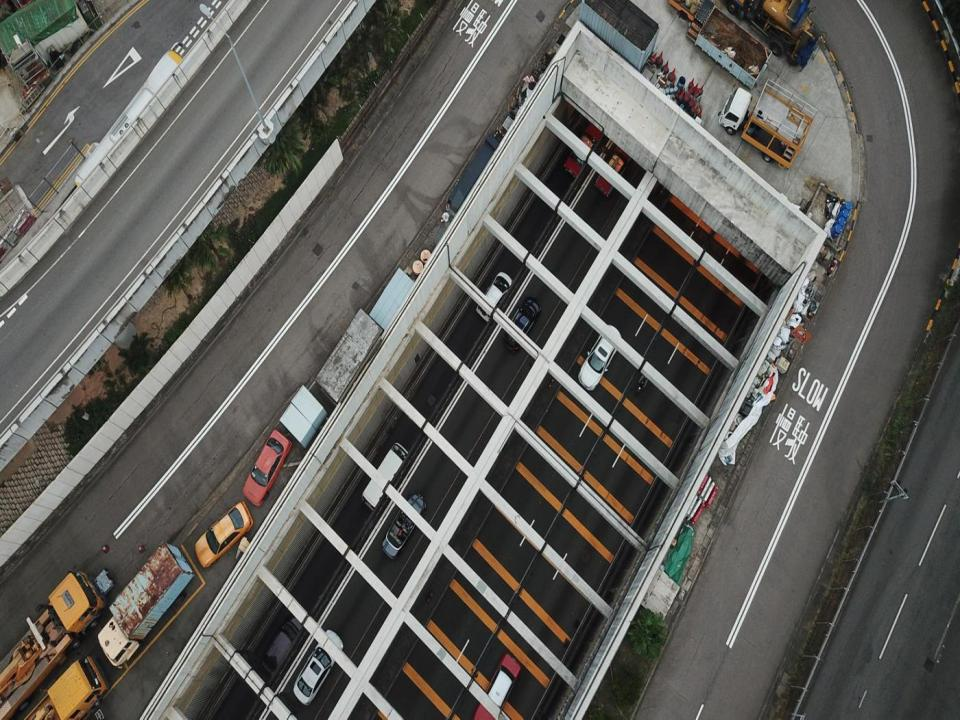bus: (362, 440, 409, 511)
car: (292, 628, 344, 704), (194, 502, 252, 568), (243, 428, 291, 506), (472, 653, 520, 719), (381, 491, 426, 559), (577, 324, 622, 390), (564, 116, 608, 178), (595, 135, 637, 195)
truck: (1, 570, 104, 719), (97, 541, 193, 668), (718, 78, 817, 171), (719, 1, 826, 71), (23, 655, 109, 719)
van: (264, 612, 308, 674), (503, 297, 540, 352), (477, 272, 512, 324)
